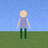person: (17, 10, 30, 38)
